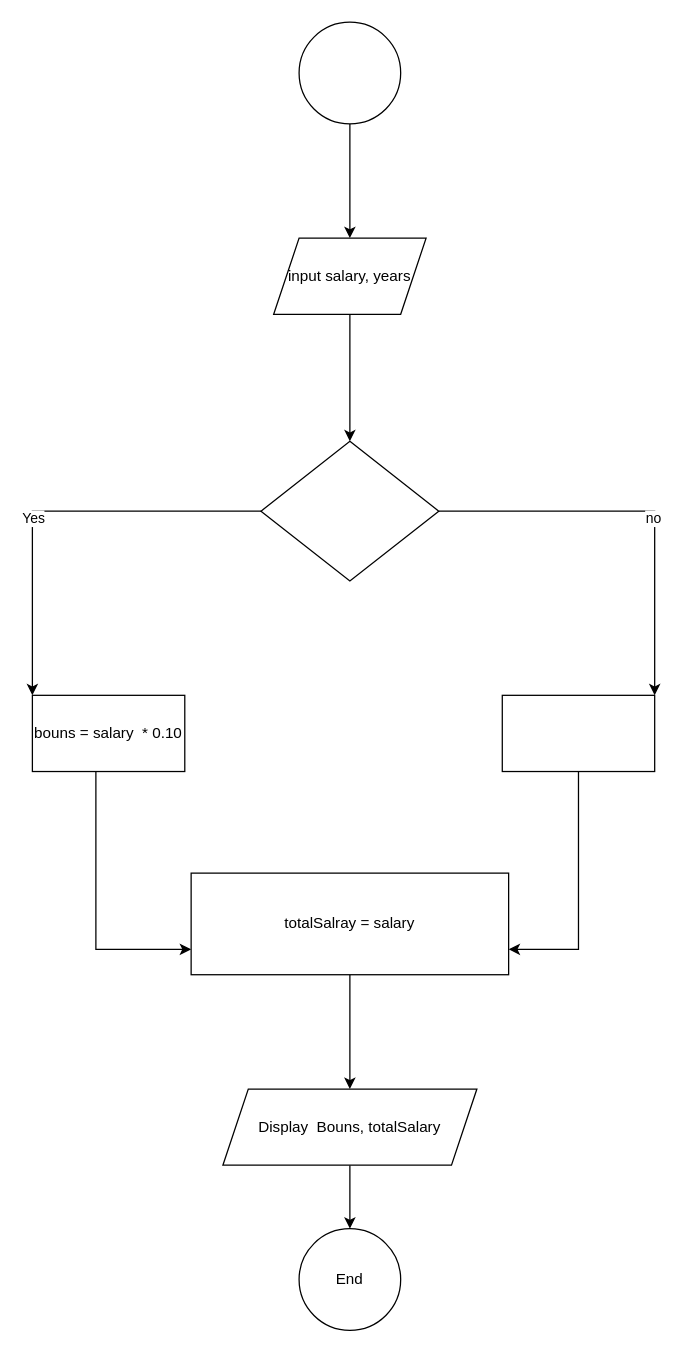
The diagram is 687 pixels wide and 1353 high, and some of its shapes have lost their labels. Here are the shapes that lost their labels. From the top down, the centre of each, then its label:
At point 349,72: "Start".
At point 349,510: "5 years?".
At point 578,733: "bouns = salarry * 0.05".
